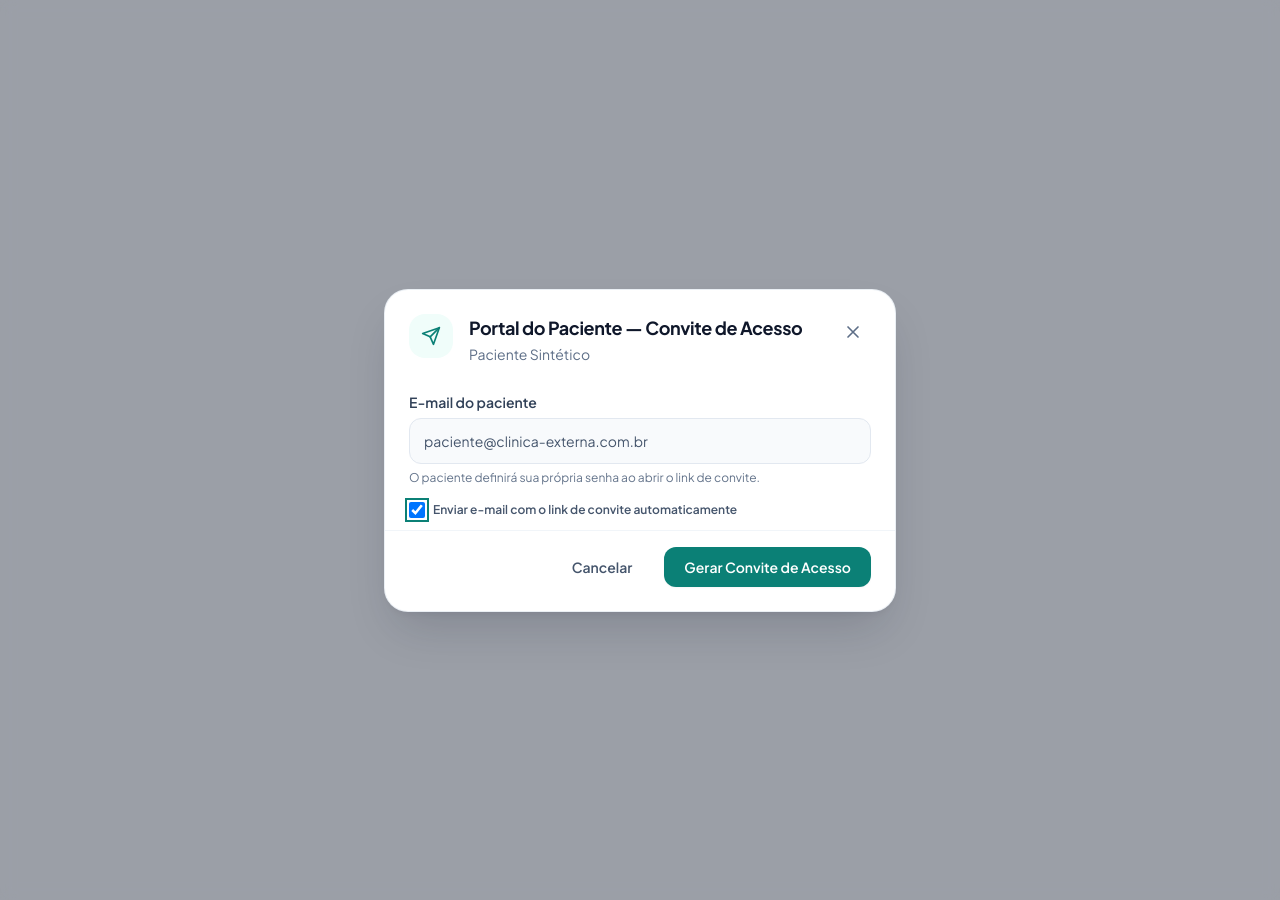
it: PatientAccessModal — simulated vs real e-mail feedback (R05) › confirms delivery only when the service reports a real send
Click the button "Gerar Convite de Acesso" at (768, 566), box 664,546 -> 871,586
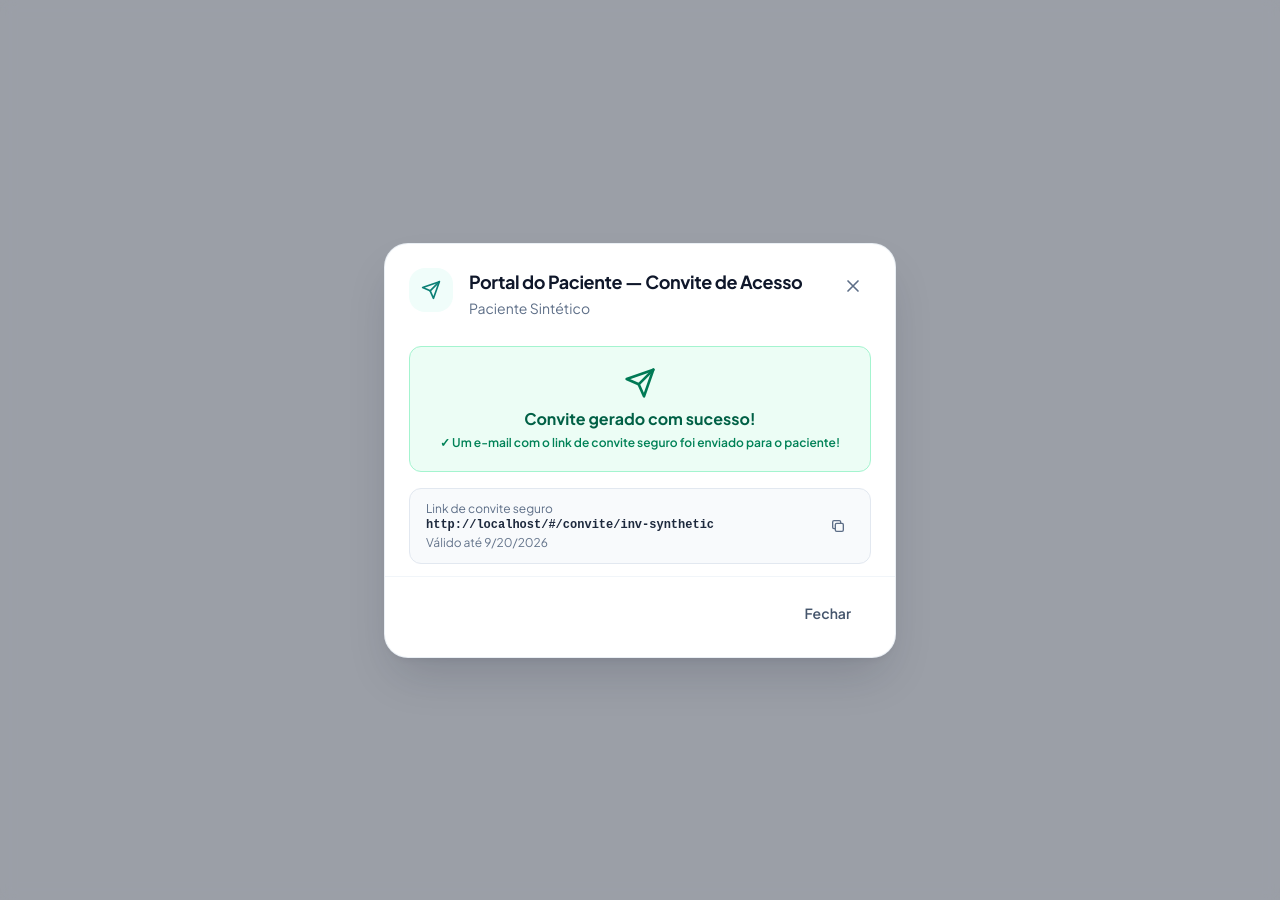
Now the text "foi enviado para o paciente" is shown, box 440,434 -> 840,450
